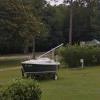Boat: (19, 48, 76, 79)
